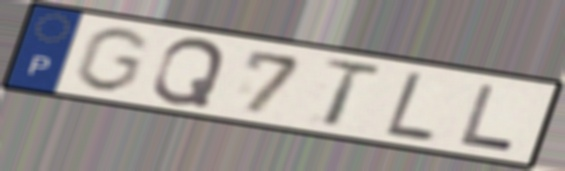7: (241, 48, 305, 114)
G: (70, 25, 154, 95)
L: (457, 82, 519, 154), (382, 68, 438, 144)
Q: (149, 36, 230, 109)
T: (319, 56, 386, 130)
